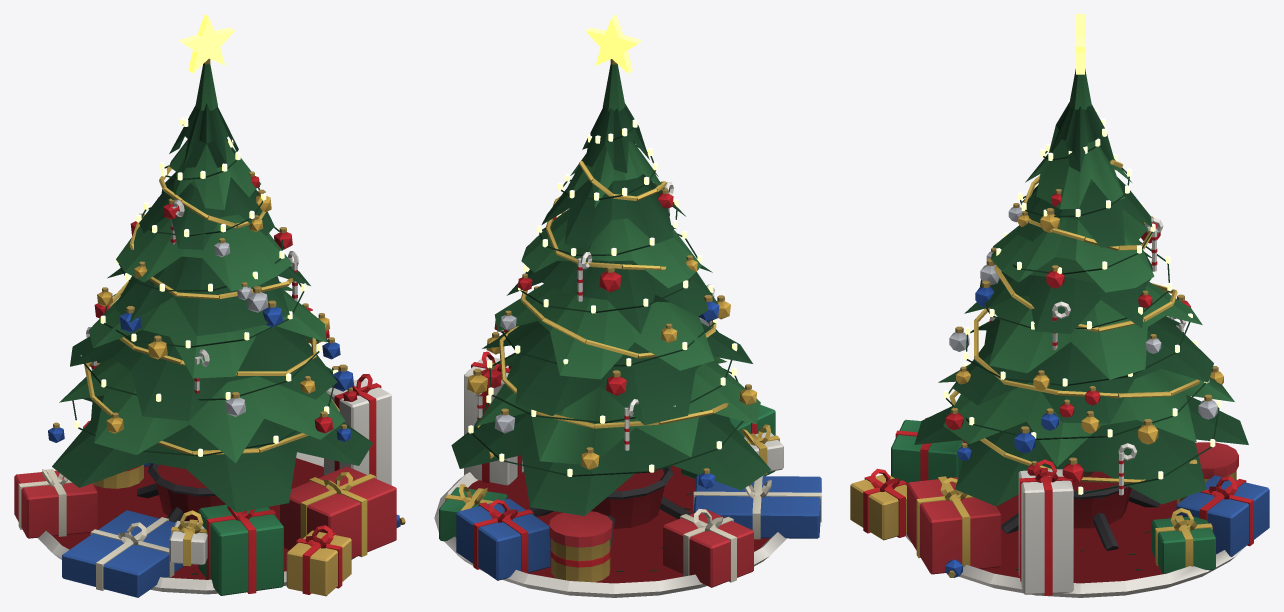
The model's file is xmas_tree.glb.
The picture shows the model from 3 angles, left to right: view 1: azimuth 30°, elevation 25°; view 2: azimuth 150°, elevation 25°; view 3: azimuth 270°, elevation 25°; orthographic projection.
Parts seen in each view (by area): view 1: xmas_tree; view 2: xmas_tree; view 3: xmas_tree.
Boxes of the visible parts, x1,y1,x2,y2 form: xmas_tree: (14,14,405,597); xmas_tree: (434,14,821,597); xmas_tree: (850,14,1269,597).
Size of the model in its own units: 1.68 by 2.46 by 1.82.
